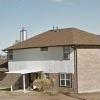Chimney: (11, 22, 30, 45)
